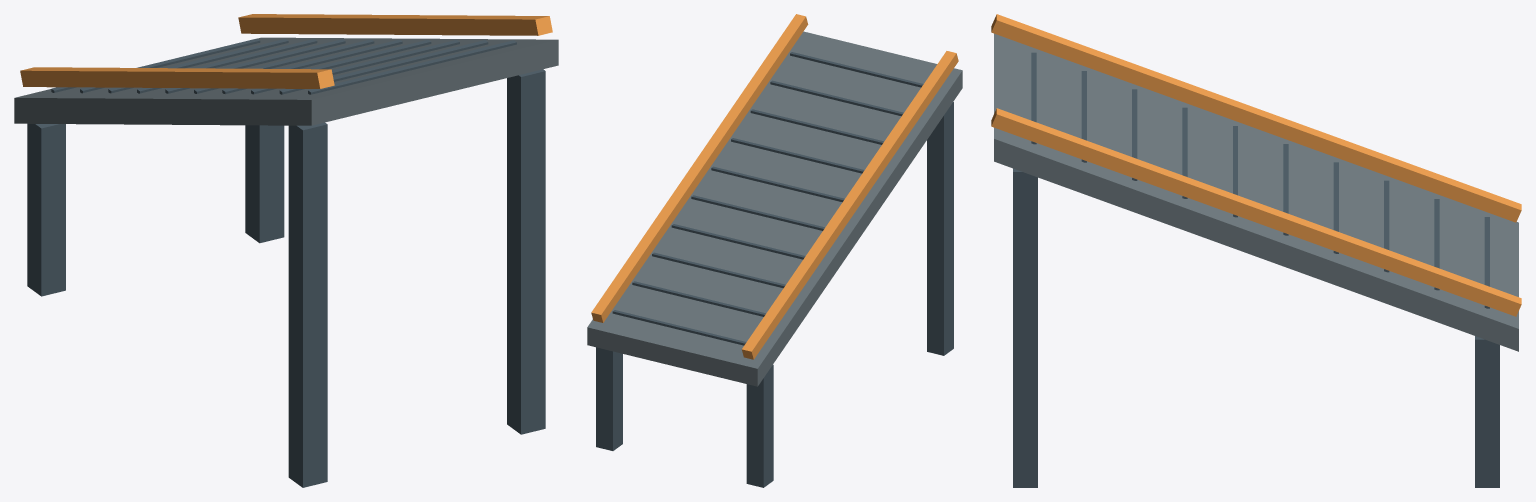
Rendered from inclined-belt-ramp.glb.
3 renders of one model, left to right at view 1: azimuth 30°, elevation 25°; view 2: azimuth 150°, elevation 25°; view 3: azimuth 270°, elevation 25°, orthographic. The views are drawn at different scales.
Parts seen in each view (by area): view 1: dark, rubber, orange; view 2: rubber, dark, orange; view 3: rubber, orange, dark.
Part boxes in pixels (x1,y1,x2,y2): dark: [27, 38, 545, 487]; rubber: [14, 37, 558, 125]; orange: [20, 14, 552, 88]; rubber: [587, 31, 962, 386]; dark: [596, 52, 953, 487]; orange: [591, 14, 958, 359]; rubber: [994, 33, 1518, 351]; orange: [991, 14, 1521, 316]; dark: [1013, 52, 1499, 487].
Size of the model in its own units: 1.2 by 1.95 by 2.53.
